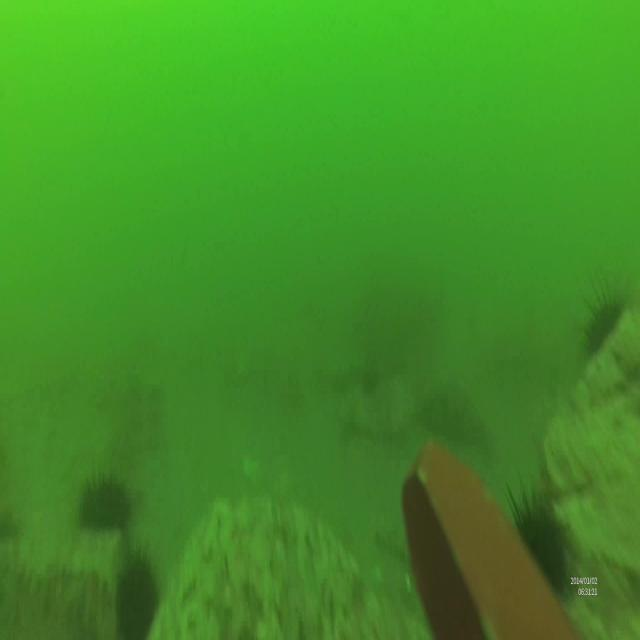echinus: (501, 485, 571, 599), (580, 268, 640, 360), (113, 553, 161, 639), (79, 475, 130, 537)
